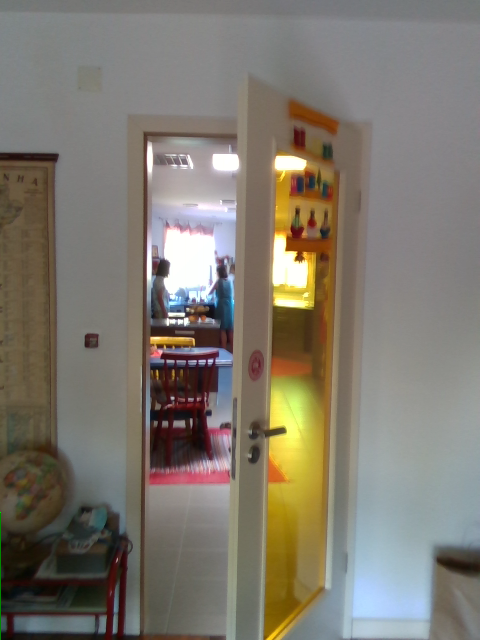semi: (119, 75, 370, 637)
